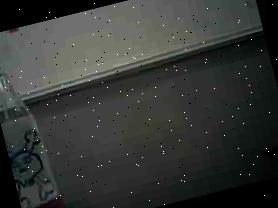hazard: (0, 25, 74, 208)
